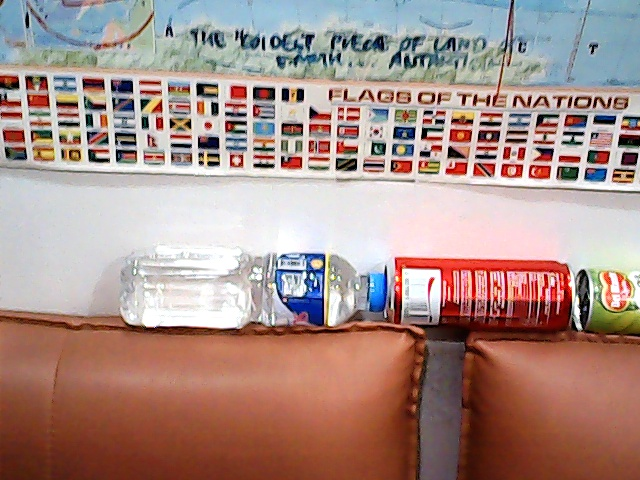Cola: (384, 249, 584, 349)
Pine Juice: (569, 249, 640, 358)
Summit Water: (109, 237, 394, 345)
